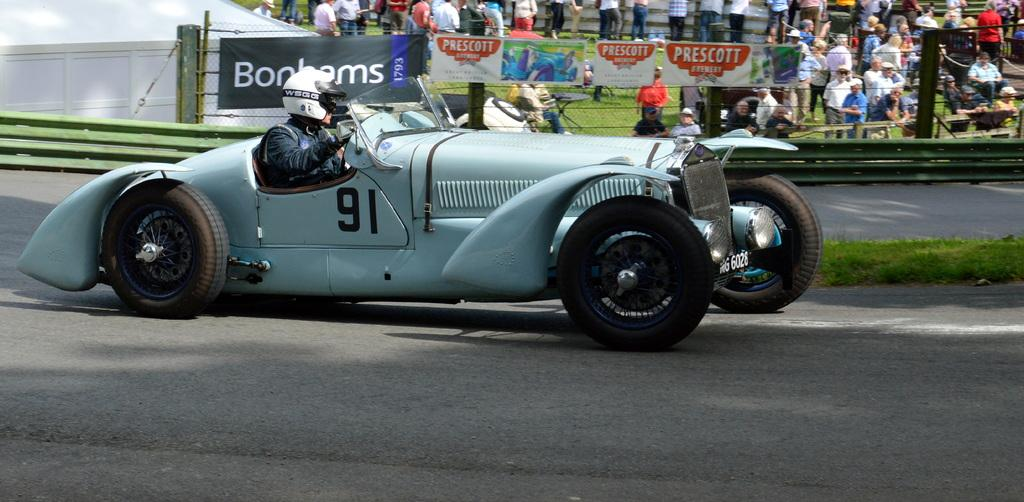helmet: (282, 69, 347, 125)
nohelmet: (676, 107, 696, 127), (999, 86, 1018, 102), (835, 64, 851, 82), (880, 61, 896, 79), (786, 29, 802, 46), (887, 33, 903, 50), (960, 85, 977, 101), (771, 103, 786, 121), (735, 99, 749, 118), (846, 78, 862, 94), (872, 23, 888, 39), (644, 105, 658, 122), (869, 55, 883, 72), (890, 84, 904, 101), (800, 18, 815, 33), (835, 33, 849, 49), (866, 15, 880, 29), (978, 51, 990, 67), (897, 22, 910, 36), (944, 74, 956, 89), (985, 0, 997, 13)
